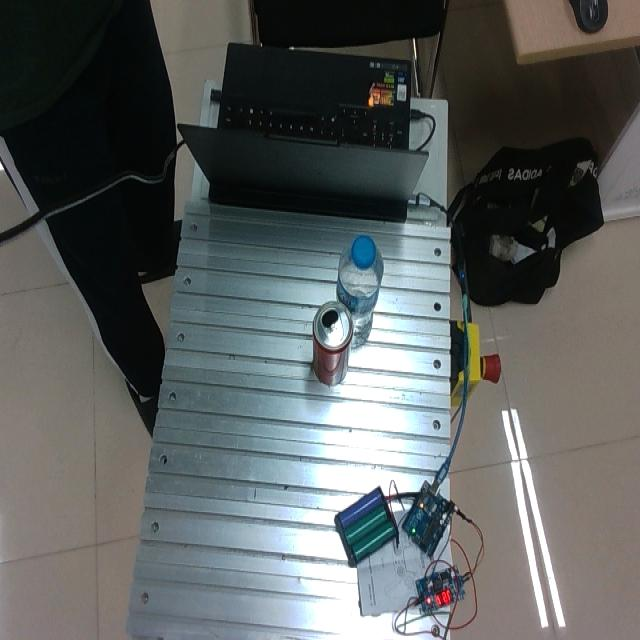coca: (312, 299, 354, 385)
lavie: (336, 235, 384, 346)
